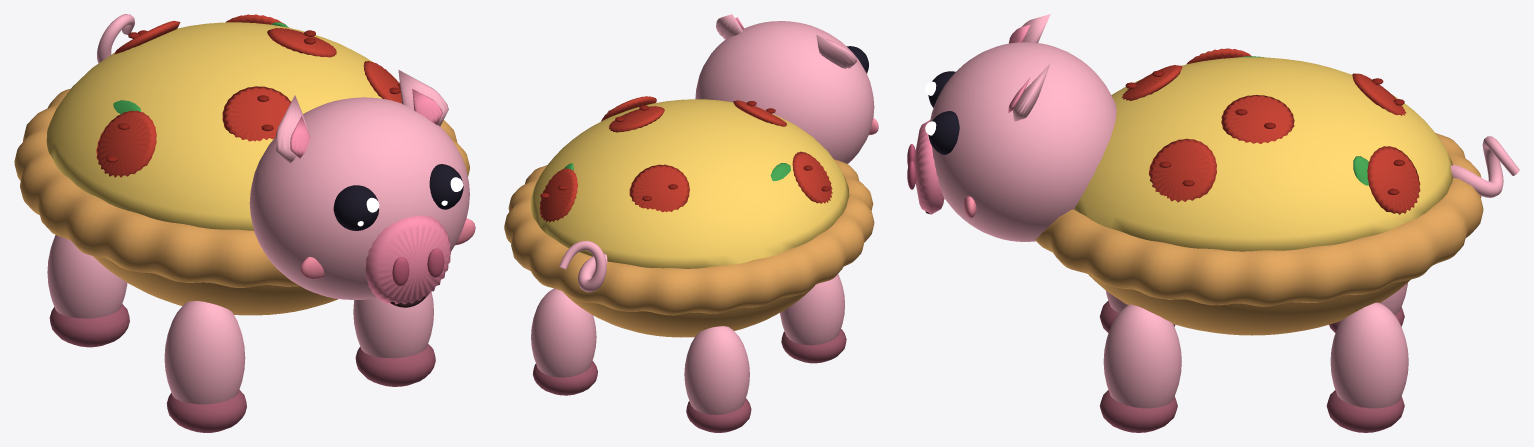
The model's file is pilot_gris_pizza.glb.
3 renders of one model, left to right at view 1: azimuth 30°, elevation 25°; view 2: azimuth 150°, elevation 25°; view 3: azimuth 270°, elevation 25°, orthographic. The views are drawn at different scales.
Visible parts, largest first — view 1: kropp, hode, bein_vf, bein_vb, bein_hf, hale; view 2: kropp, hode, bein_vb, bein_hb, bein_vf, hale; view 3: kropp, hode, bein_hb, bein_hf, hale, bein_vf, bein_vb.
Boxes of the visible parts, x1,y1,x2,y2 form: kropp: [14, 14, 469, 315]; hode: [249, 69, 475, 307]; bein_vf: [164, 301, 246, 432]; bein_vb: [47, 235, 129, 347]; bein_hf: [353, 292, 435, 386]; hale: [97, 14, 134, 63]; kropp: [504, 96, 874, 337]; hode: [695, 14, 878, 163]; bein_vb: [684, 326, 751, 432]; bein_hb: [531, 288, 597, 395]; bein_vf: [780, 274, 846, 363]; hale: [559, 240, 607, 292]; kropp: [1035, 48, 1483, 335]; hode: [907, 14, 1116, 241]; bein_hb: [1326, 302, 1408, 432]; bein_hf: [1099, 304, 1181, 432]; hale: [1450, 136, 1519, 197]; bein_vf: [1099, 290, 1175, 332]; bein_vb: [1329, 283, 1407, 332].
Bounding box in the file's own units: 1.11 × 0.9708 × 1.57.
